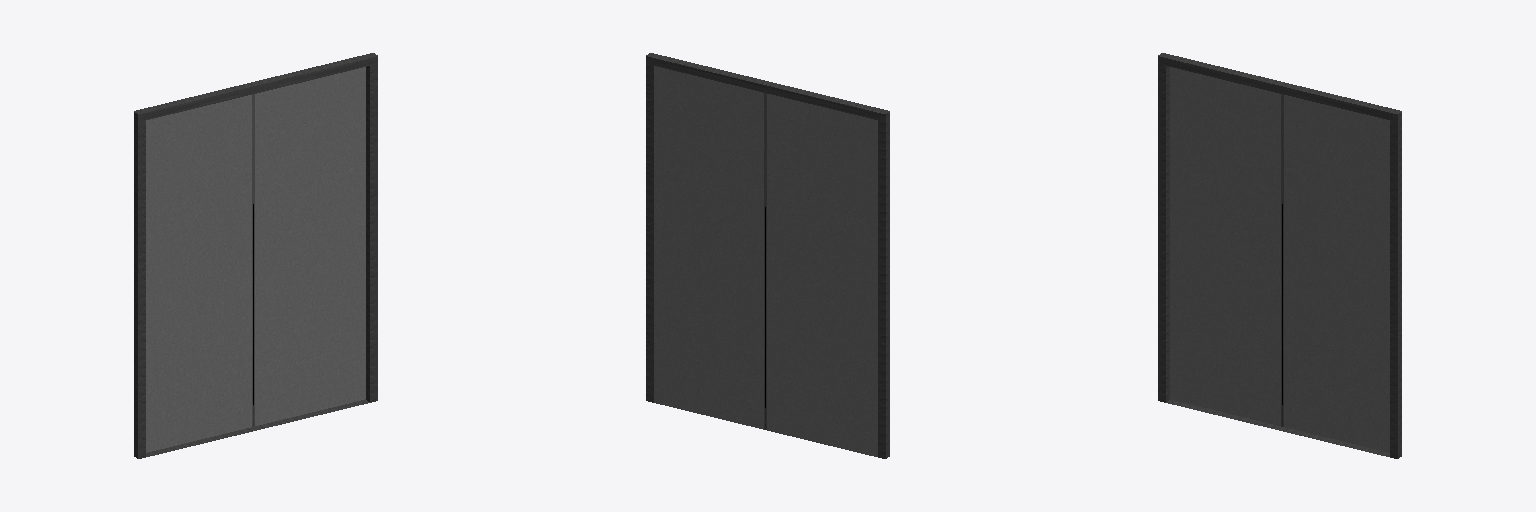
3 views of the same model, side by side, from view 1: azimuth 30°, elevation 25°; view 2: azimuth 150°, elevation 25°; view 3: azimuth 330°, elevation 25° (orthographic).
Visible parts, largest first — view 1: Cube.002; view 2: Cube.002; view 3: Cube.002.
Boxes of the visible parts, x1,y1,x2,y2 form: Cube.002: [134, 53, 377, 458]; Cube.002: [646, 53, 889, 458]; Cube.002: [1158, 53, 1401, 458].
Size of the model in its own units: 3.18 by 4.37 by 0.1076.
Materials: 1 (1 with a texture image).